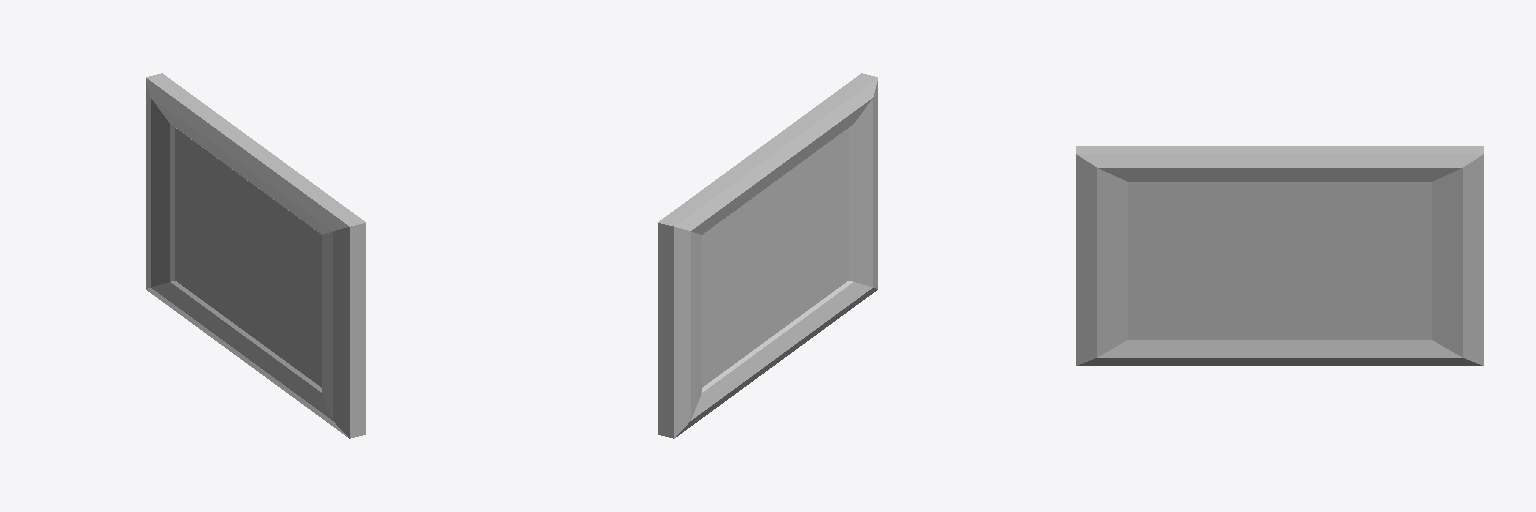
Rendered from painting_medium.obj.
3 views of the same model, side by side, from view 1: azimuth 30°, elevation 25°; view 2: azimuth 150°, elevation 25°; view 3: azimuth 270°, elevation 25° (orthographic).
Visible parts, largest first — view 1: pCube11; view 2: pCube11; view 3: pCube11.
Boxes of the visible parts, x1=… form: pCube11: x1=146, y1=73, x2=365, y2=438; pCube11: x1=658, y1=73, x2=877, y2=438; pCube11: x1=1076, y1=146, x2=1483, y2=365.
Size of the model in its own units: 0.314 by 2.28 by 3.98.